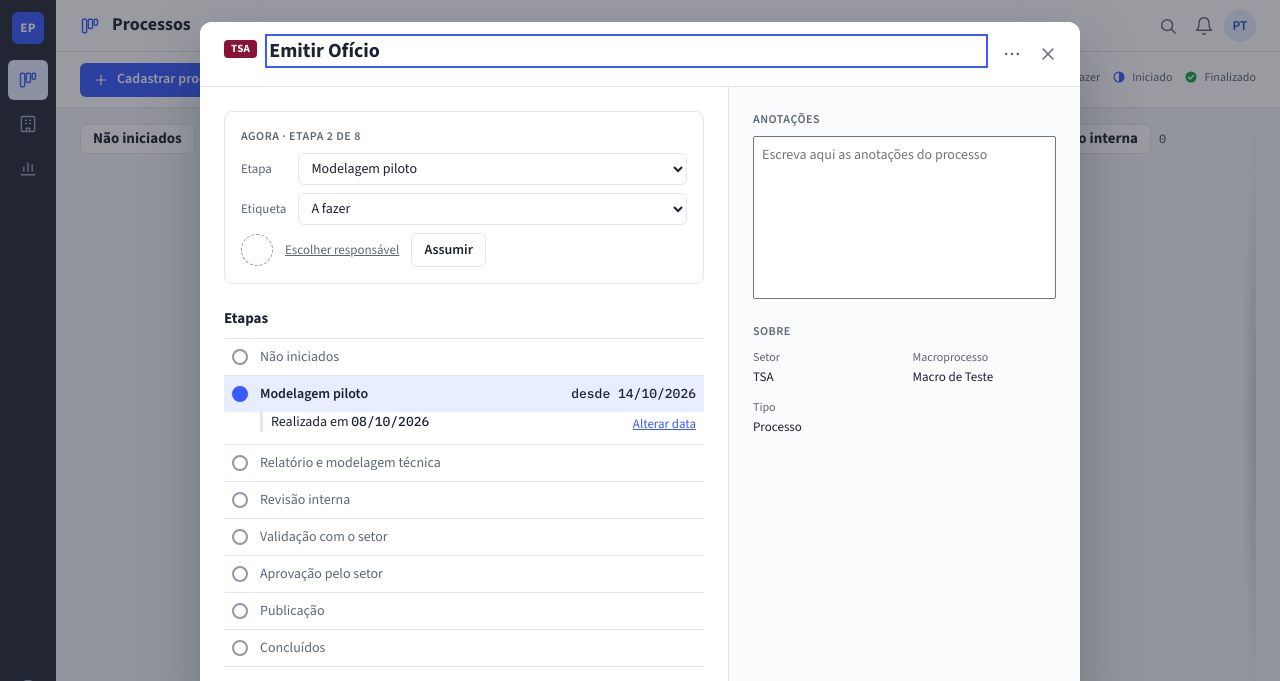
Test: alterar: o campo abre com a data gravada
Click the button "Alterar data" at (664, 424), box [633, 412, 696, 436]
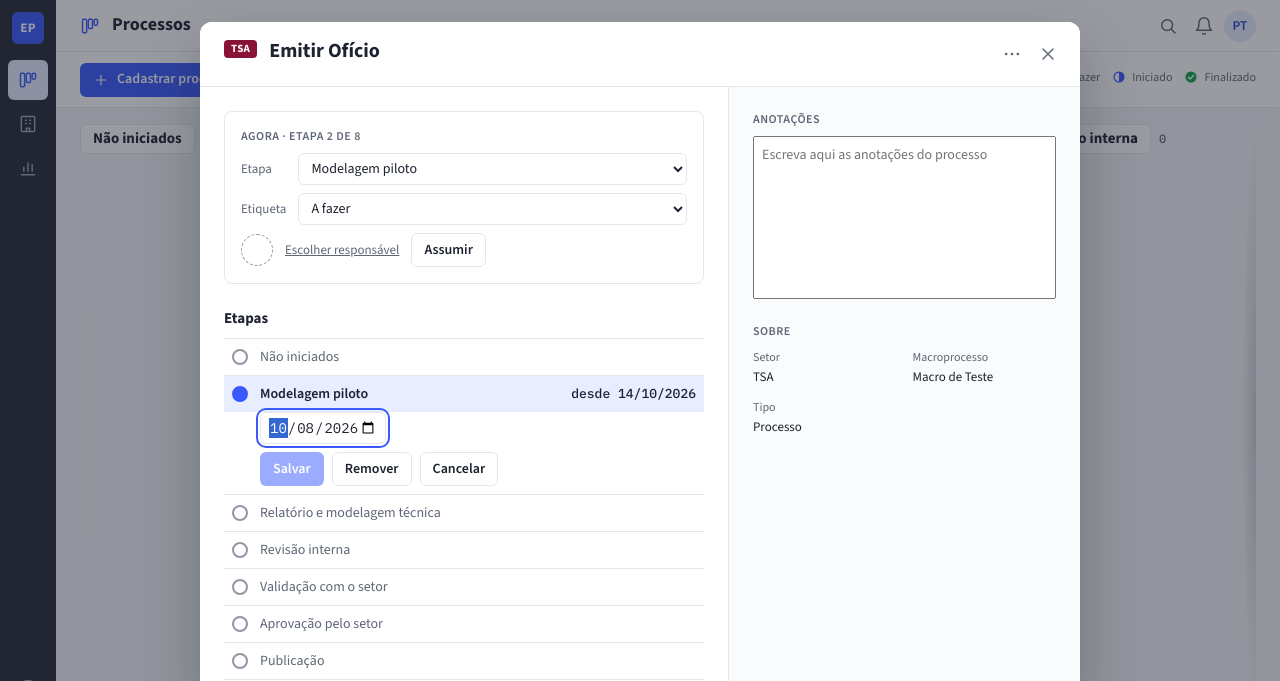
Expected: the date field named "Data da modelagem piloto" holds "2026-10-08"
Type "2026-10-09" into the date field named "Data da modelagem piloto" at (323, 428), box [260, 412, 386, 444]
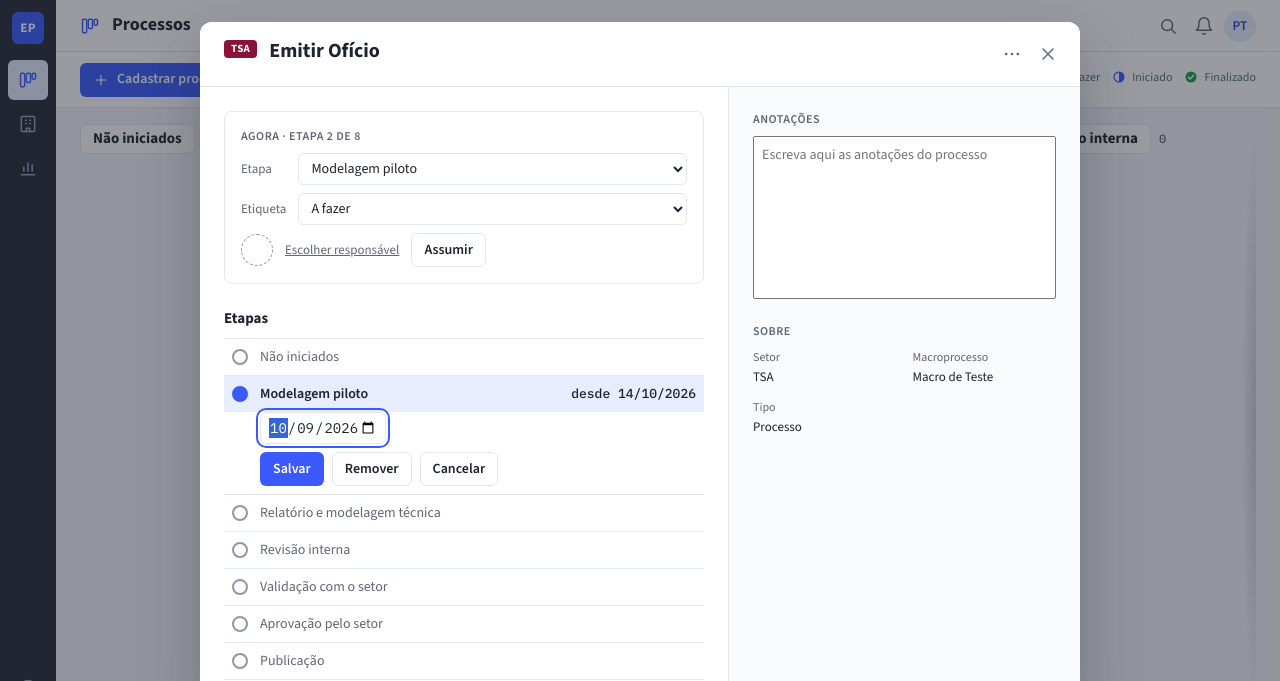
Click the button "Salvar" at (292, 469), box [260, 452, 324, 486]
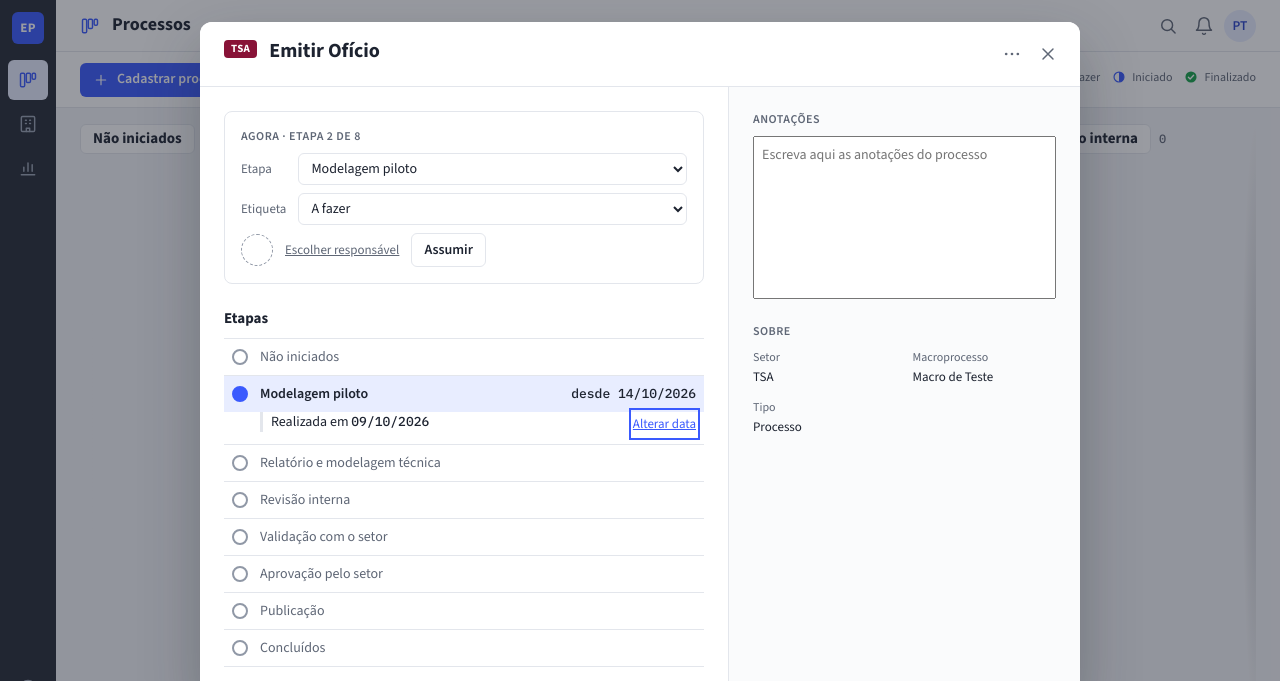
Expected: the text "Realizada em 09/10/2026" is shown, [260, 412, 429, 432]
